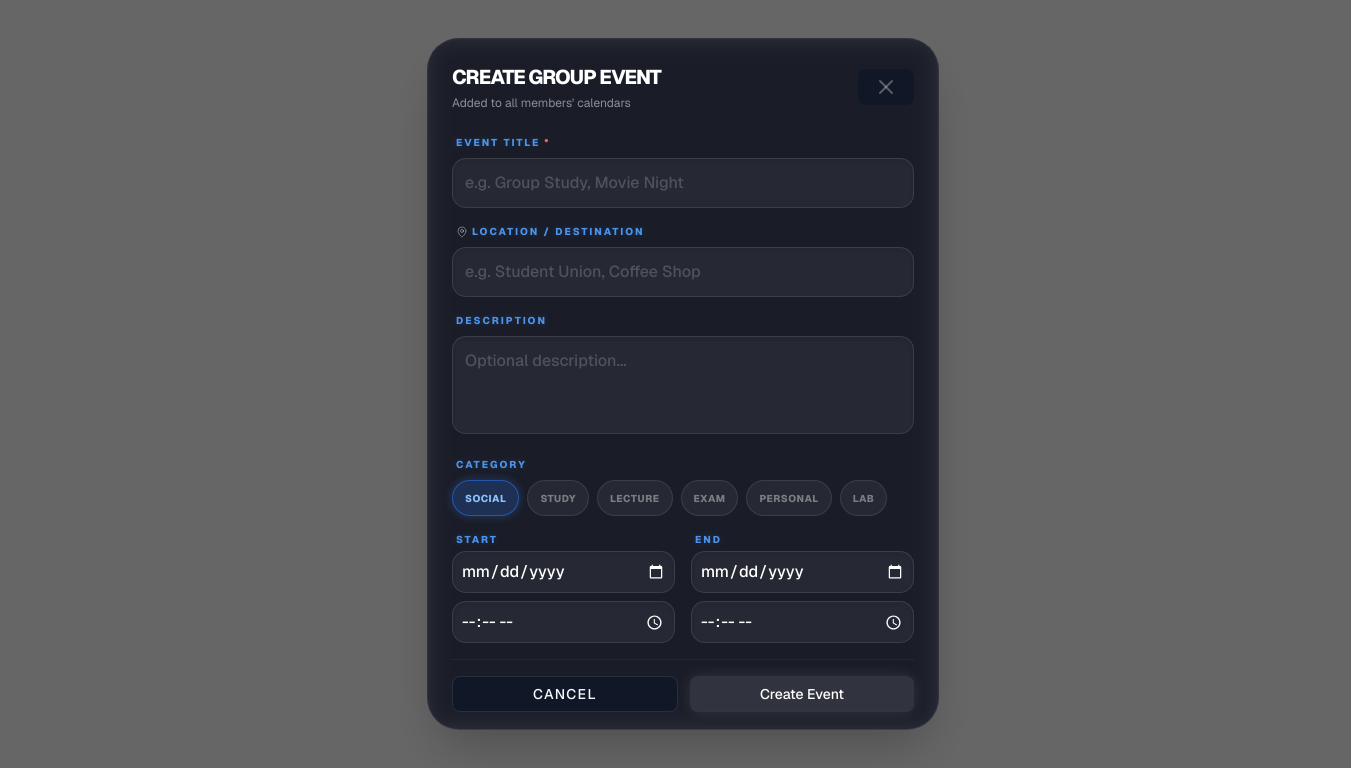
GroupEventModal — create mode › shows validation error when end is before start
Type "Test Event" into the field with placeholder "e.g. Group Study, Movie Night". click: x=683, y=183
box: [452, 158, 914, 208]
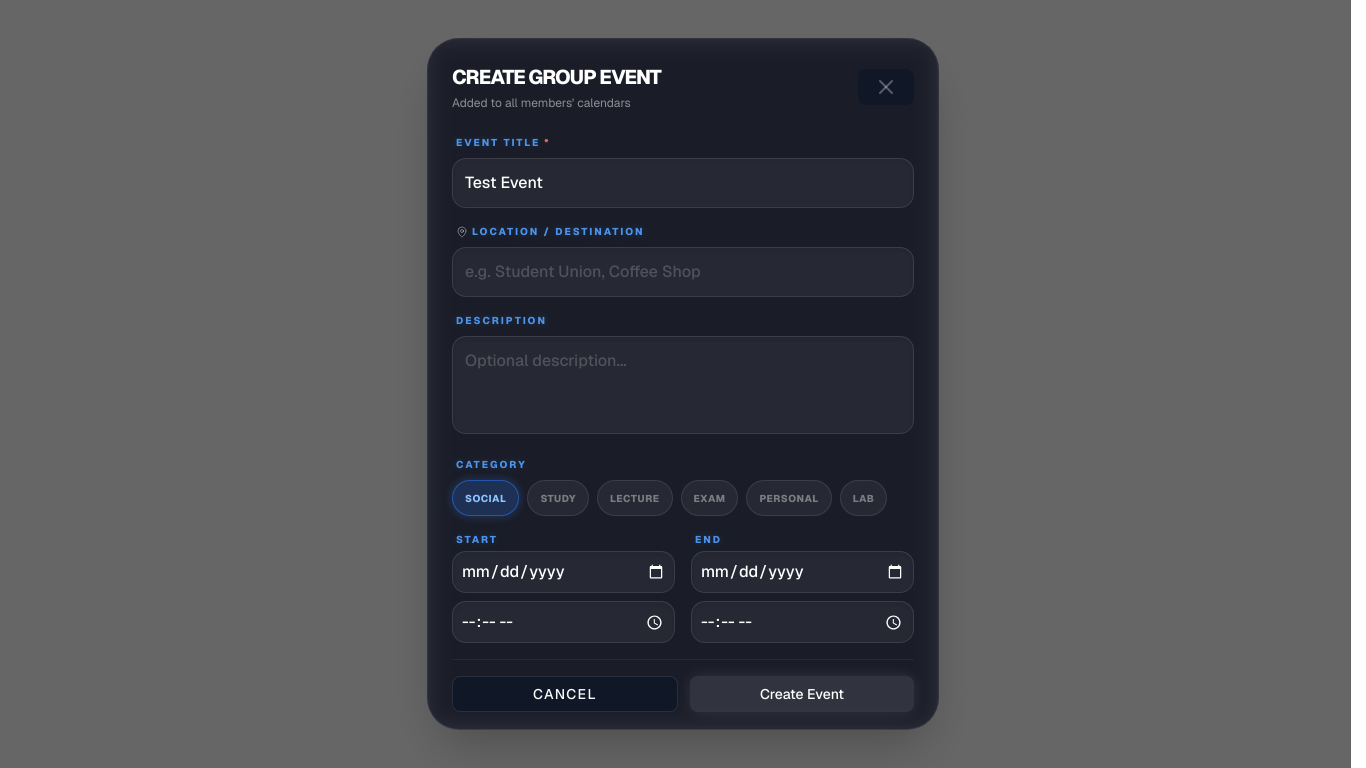
Set End time (09:00) to be before Start time (10:00)
Type "2026-03-15" into the date field below "Start". click: x=564, y=572
box: [452, 551, 675, 593]
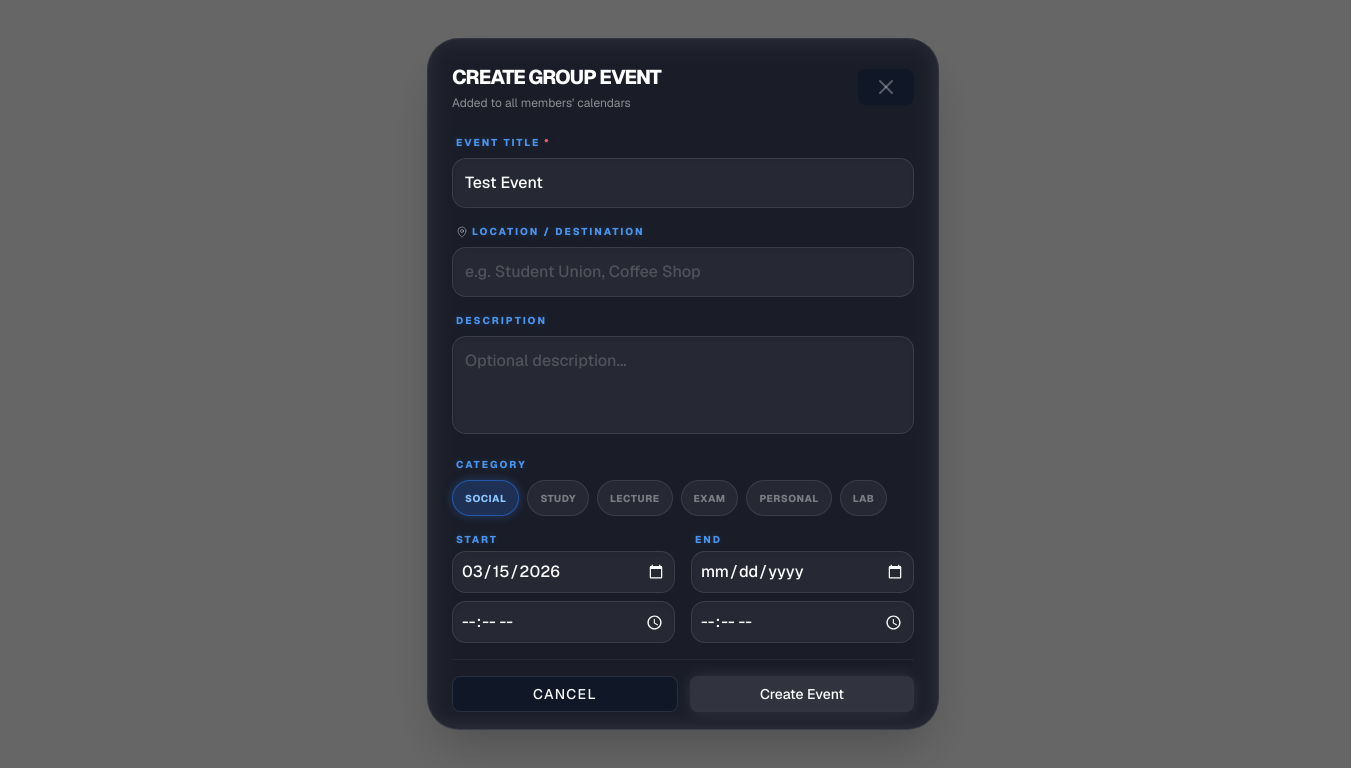
Type "10:00" into the time field below "Start". click: x=564, y=622
box: [452, 601, 675, 643]
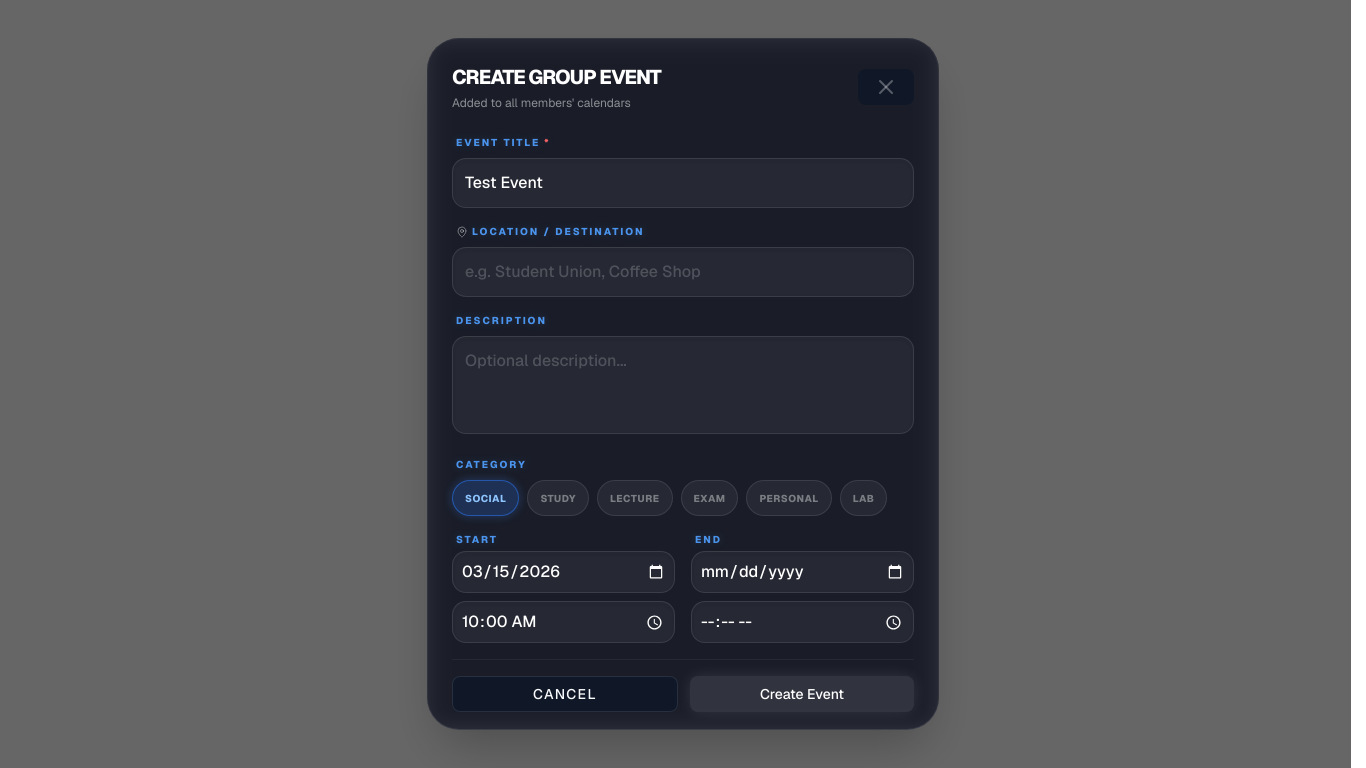
Type "2026-03-15" into the 2nd date field. click: x=802, y=572
box: [691, 551, 914, 593]
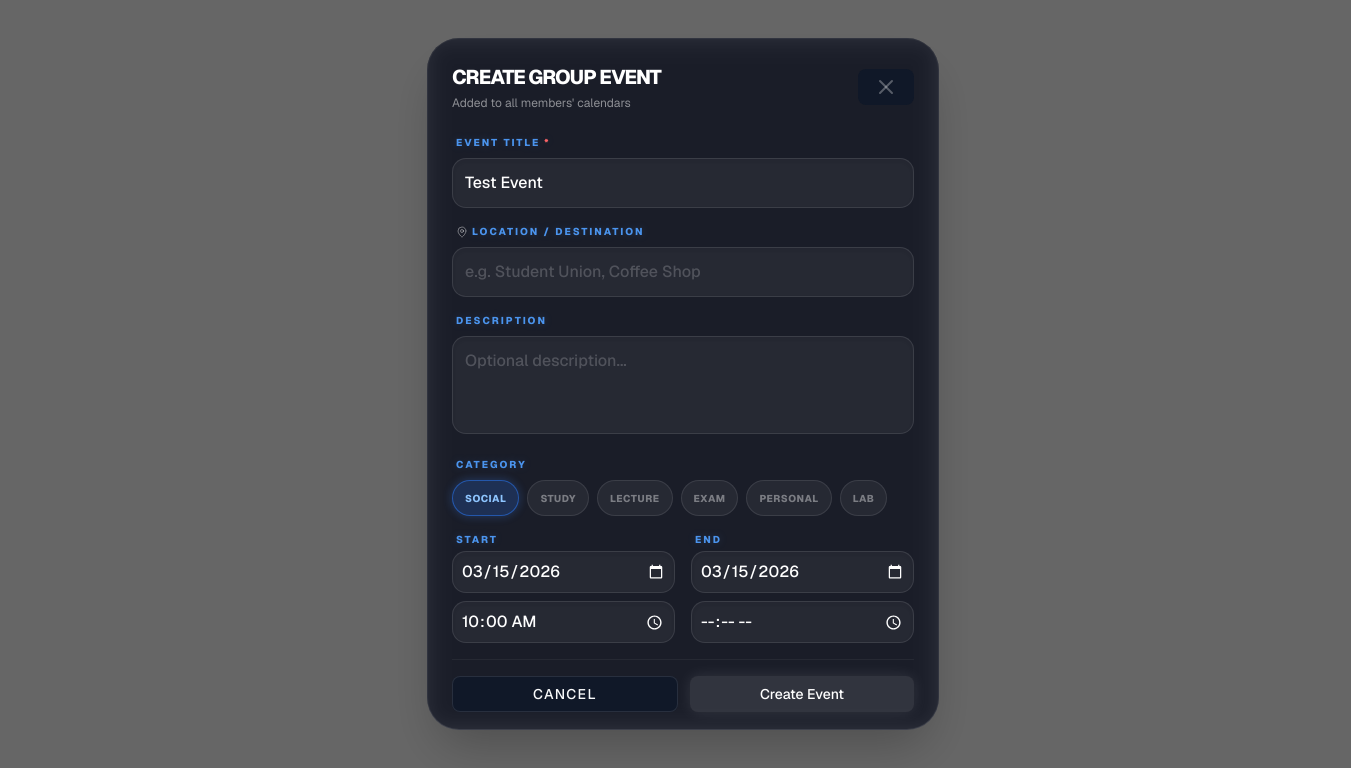
Type "09:00" into the 2nd time field. click: x=802, y=622
box: [691, 601, 914, 643]
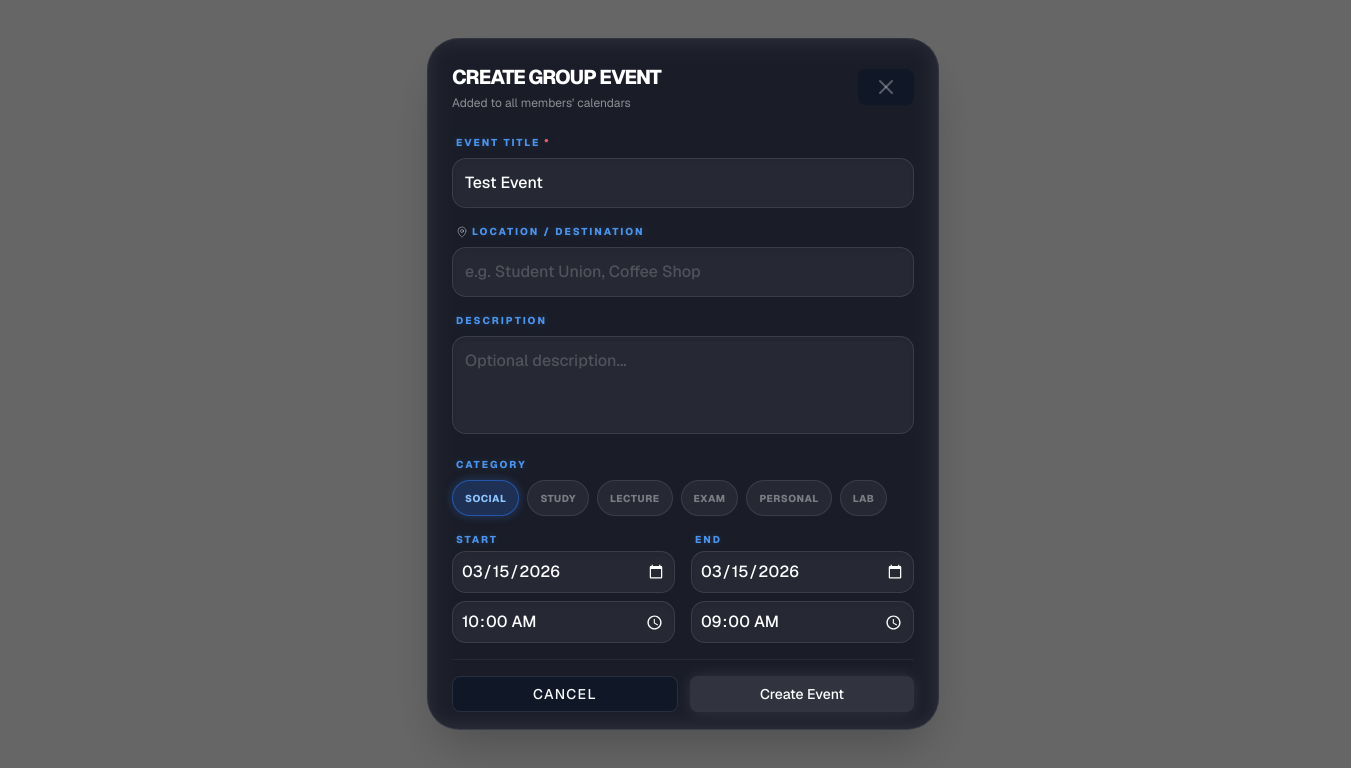
Click the button "Create Event". click: x=802, y=694
box: [690, 676, 914, 712]
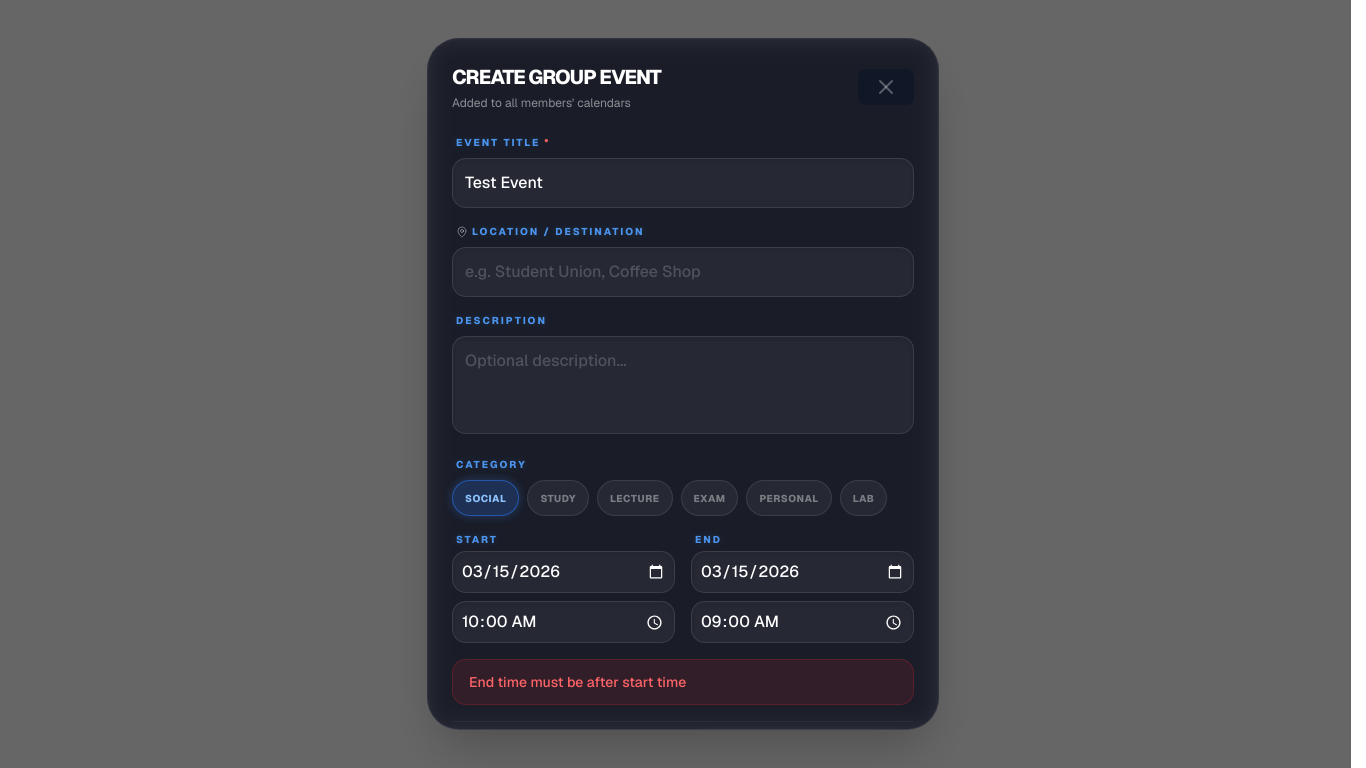
Expected: the text "End time must be after start time" is shown, [452, 659, 914, 705]
